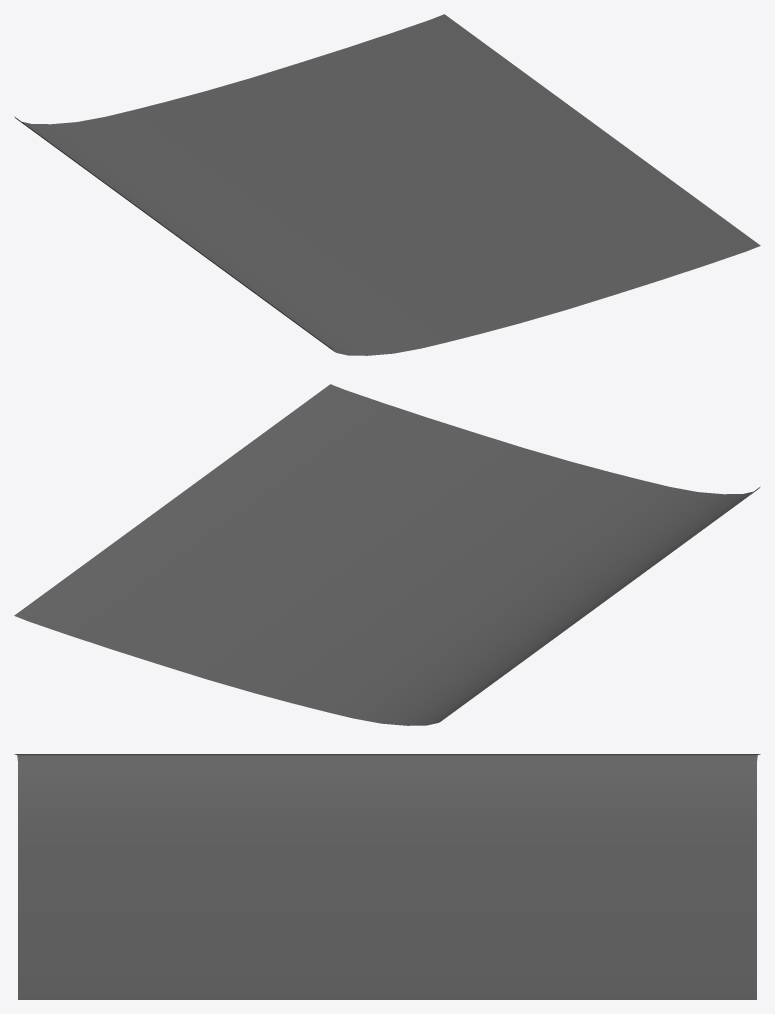
File: Book_14_book_front_14_0.obj
3 views of the same model, one above another, from view 1: azimuth 30°, elevation 25°; view 2: azimuth 150°, elevation 25°; view 3: azimuth 270°, elevation 25° (orthographic). The views are drawn at different scales.
Size of the model in its own units: 0.1453 by 0.00691 by 0.1878.
Materials: 1 (1 with a texture image).
